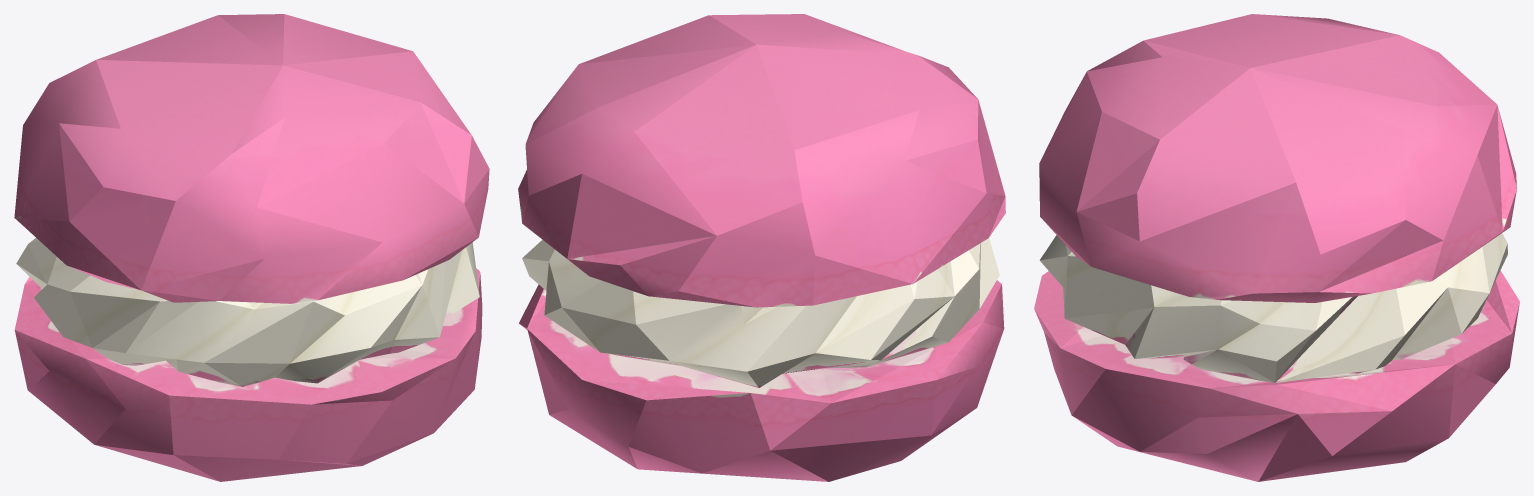
Rendered from source.fbx.
The picture shows the model from 3 angles, left to right: view 1: azimuth 30°, elevation 25°; view 2: azimuth 150°, elevation 25°; view 3: azimuth 270°, elevation 25°; orthographic projection.
Visible parts, largest first — view 1: output_unwrapped; view 2: output_unwrapped; view 3: output_unwrapped.
Boxes of the visible parts, <box> form: output_unwrapped: <box>14,14,489,481</box>; output_unwrapped: <box>518,14,1005,481</box>; output_unwrapped: <box>1034,14,1519,481</box>.
Size of the model in its own units: 22.57 by 18 by 22.78.
1 material, 1 textured.
